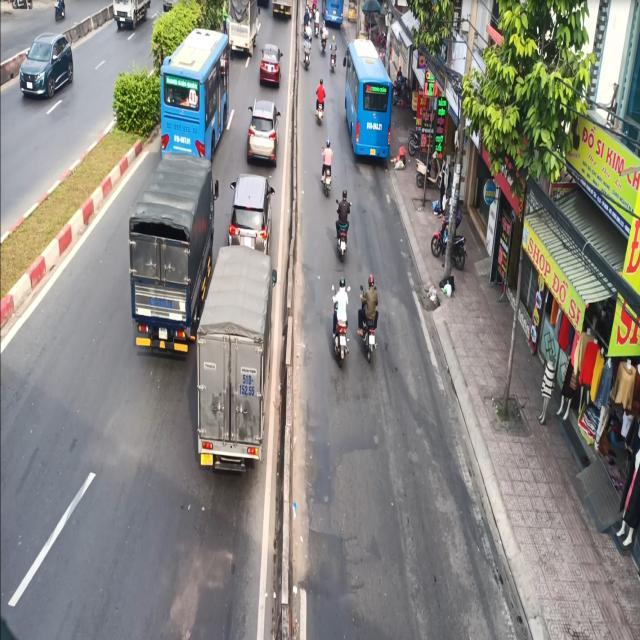bus: (158, 27, 230, 163), (342, 37, 393, 161)
car: (18, 31, 73, 99)
person: (320, 140, 332, 177), (315, 78, 326, 113)
truck: (193, 244, 276, 474), (127, 153, 216, 357)
